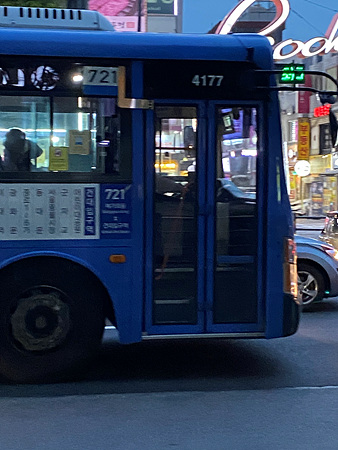entrance: (146, 93, 265, 339)
